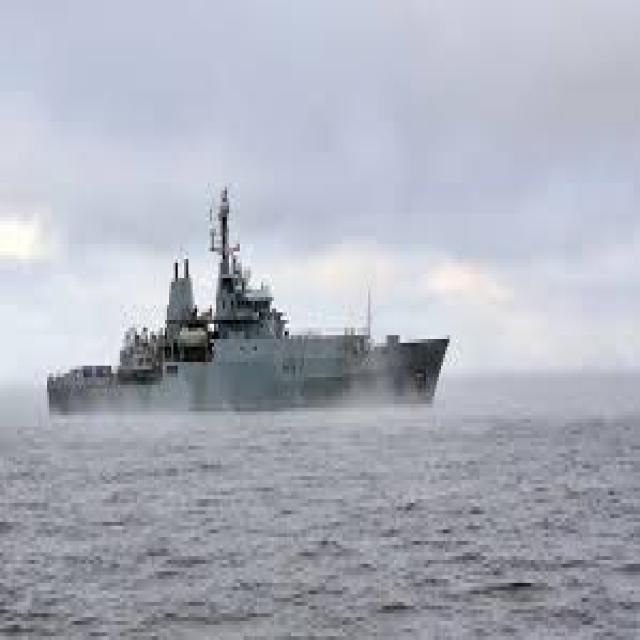navalvessels: (43, 172, 460, 421)
